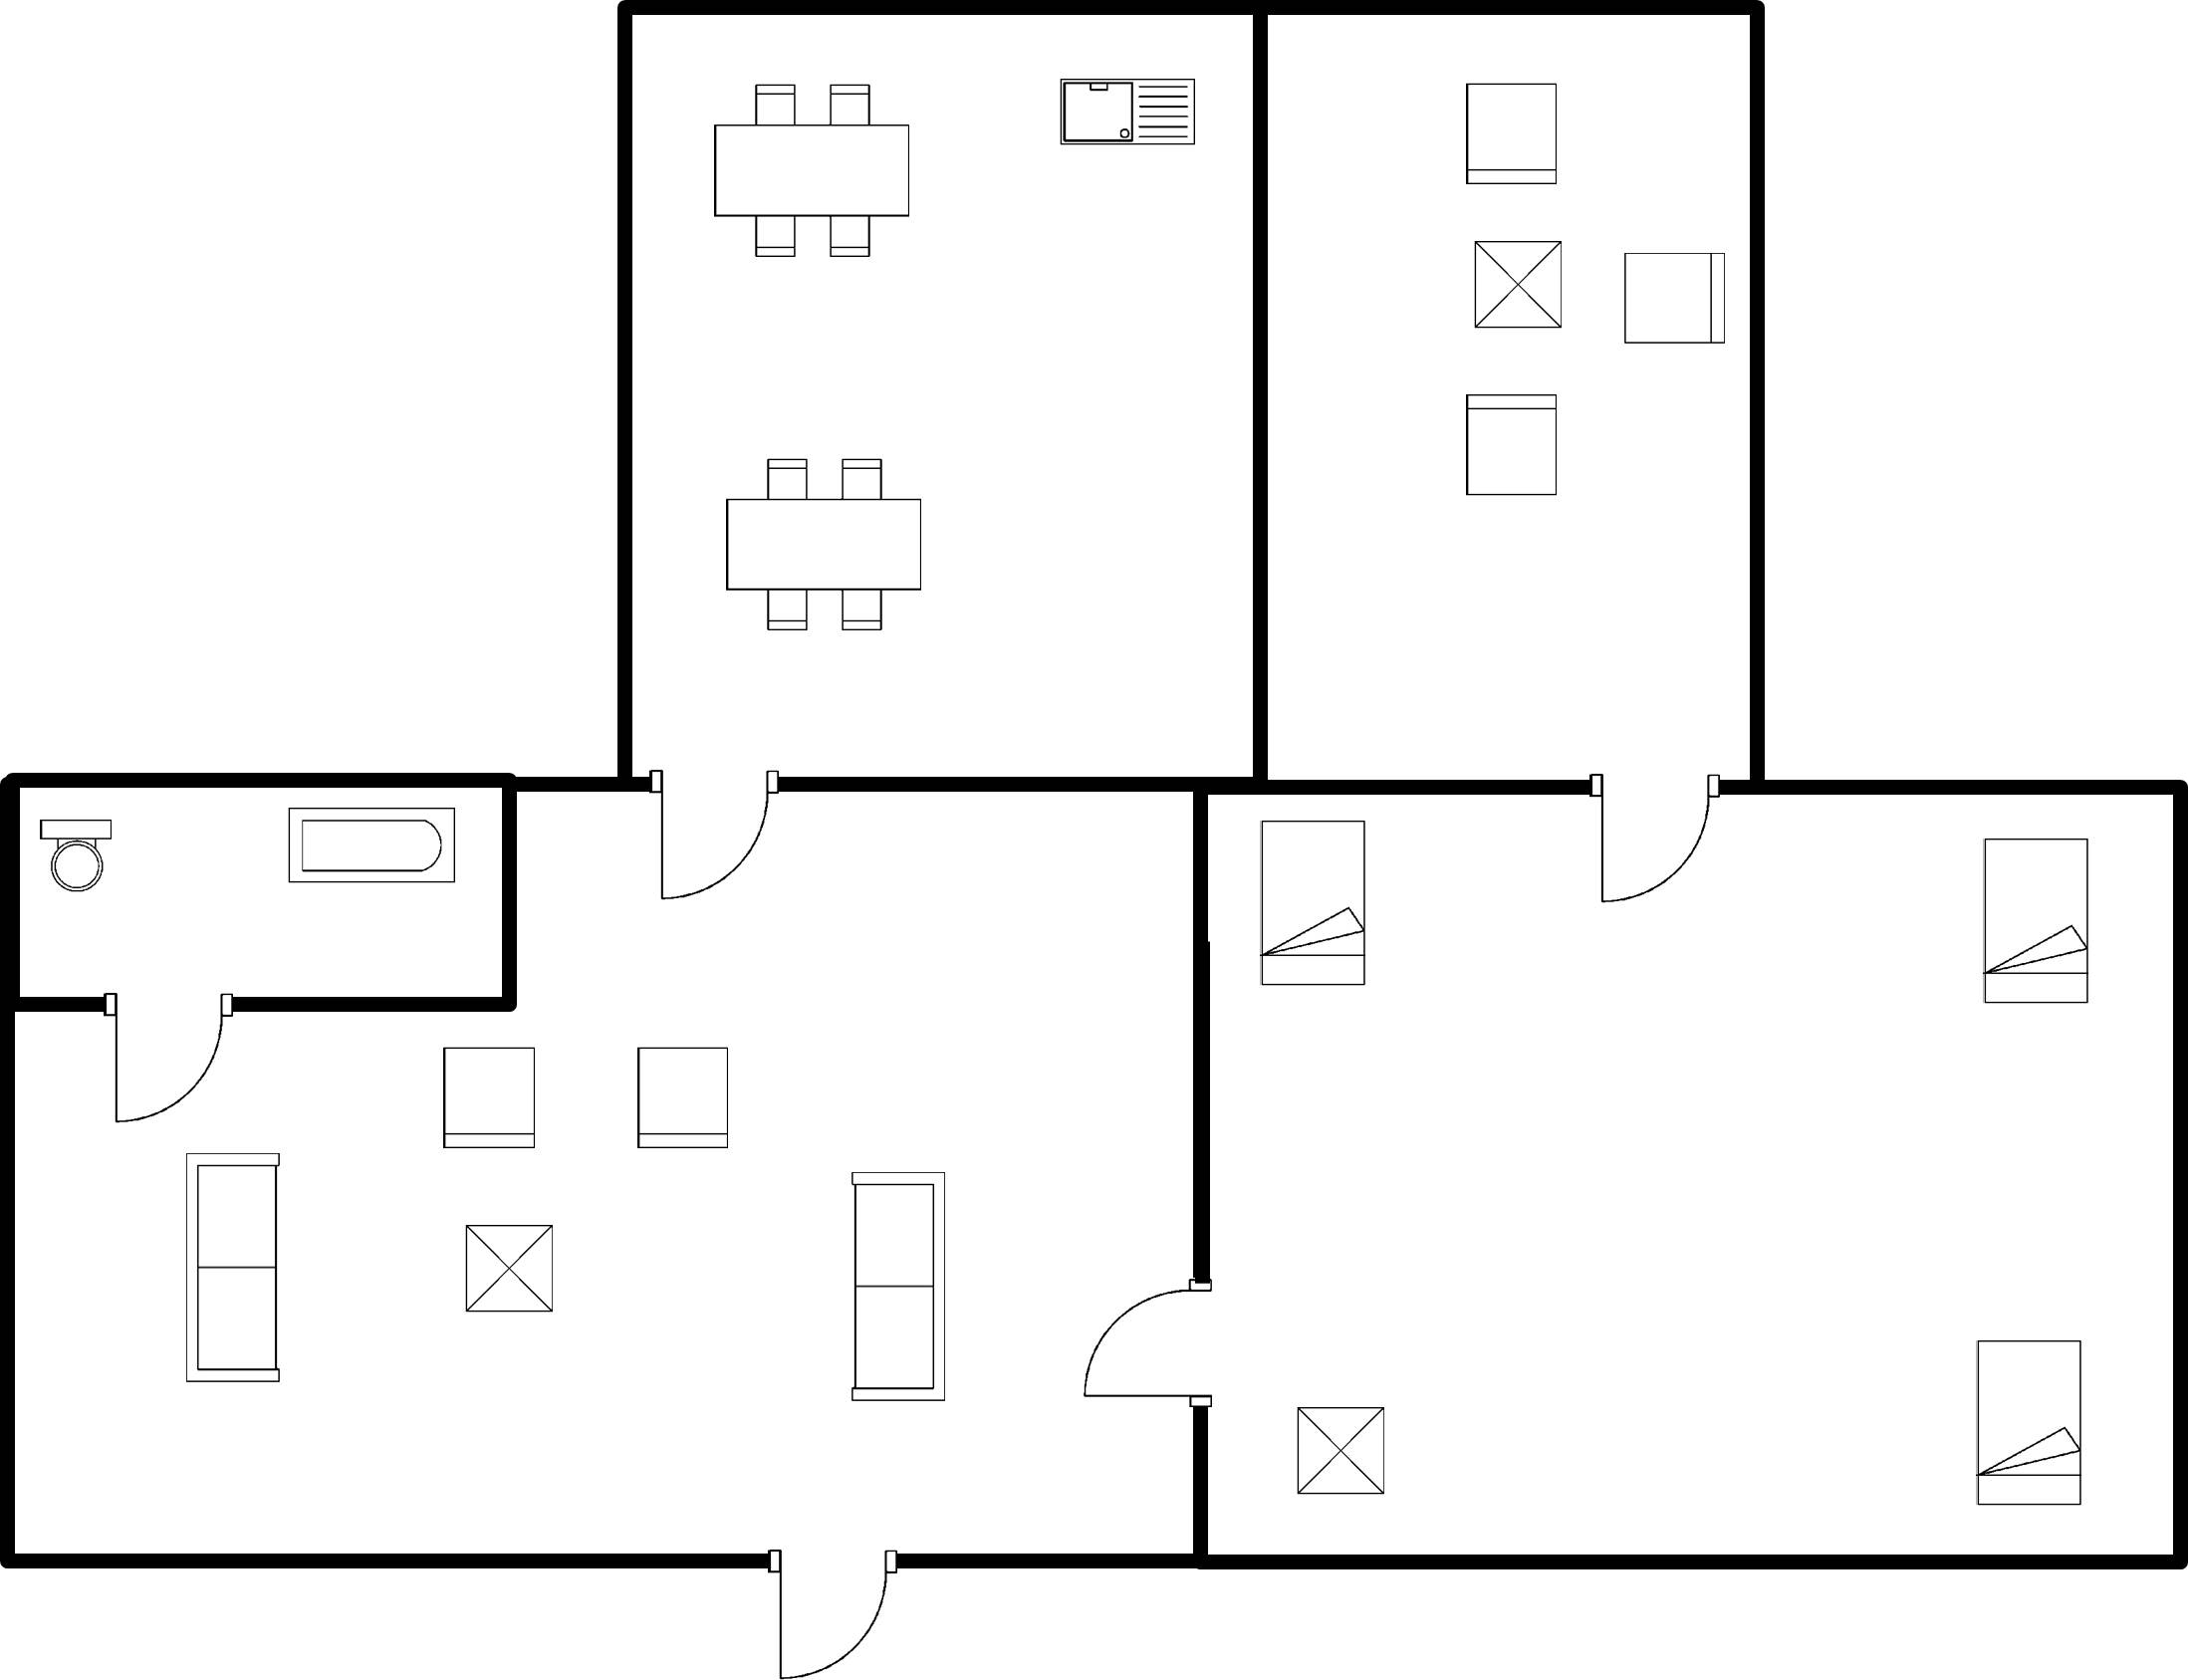bed: (1963, 1327, 2095, 1517), (1248, 814, 1377, 1000), (1971, 830, 2101, 1016)
coffee_table: (1279, 1396, 1393, 1507), (1464, 229, 1577, 342), (451, 1213, 564, 1322)
dining_table: (699, 71, 923, 270), (709, 446, 934, 645)
large_sink: (33, 812, 126, 903)
large_sofa: (173, 1141, 290, 1398), (842, 1161, 956, 1417)
sink: (1051, 66, 1204, 158)
small_sofa: (1449, 72, 1568, 194), (627, 1037, 742, 1161), (433, 1034, 546, 1159), (1613, 240, 1731, 357), (1457, 382, 1570, 503)
tub: (278, 796, 463, 896)
